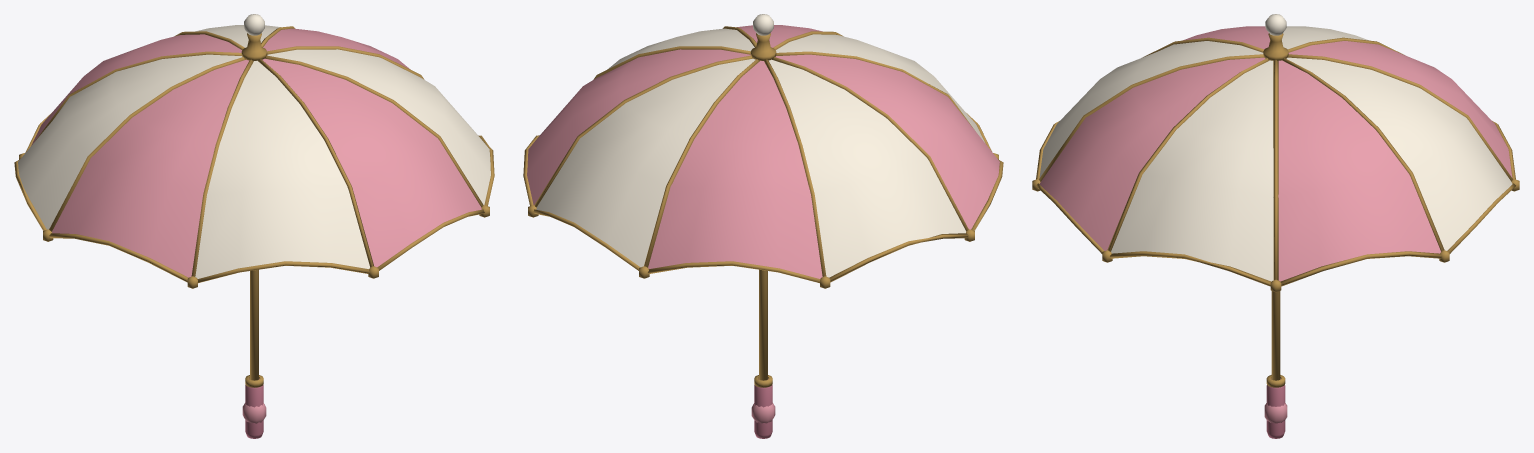
Rendered from umbrella-threshold.glb.
3 views of the same model, side by side, from view 1: azimuth 30°, elevation 25°; view 2: azimuth 150°, elevation 25°; view 3: azimuth 270°, elevation 25° (orthographic).
Parts seen in each view (by area): view 1: spin, umbrella_root; view 2: spin, umbrella_root; view 3: spin, umbrella_root.
Part boxes in pixels (x1,y1,x2,y2): spin: [14, 14, 494, 288]; umbrella_root: [242, 269, 266, 438]; spin: [523, 14, 1003, 288]; umbrella_root: [751, 269, 775, 438]; spin: [1032, 14, 1519, 291]; umbrella_root: [1264, 291, 1287, 438].
Bounding box in the file's own units: 1.54 × 1.46 × 1.53.
